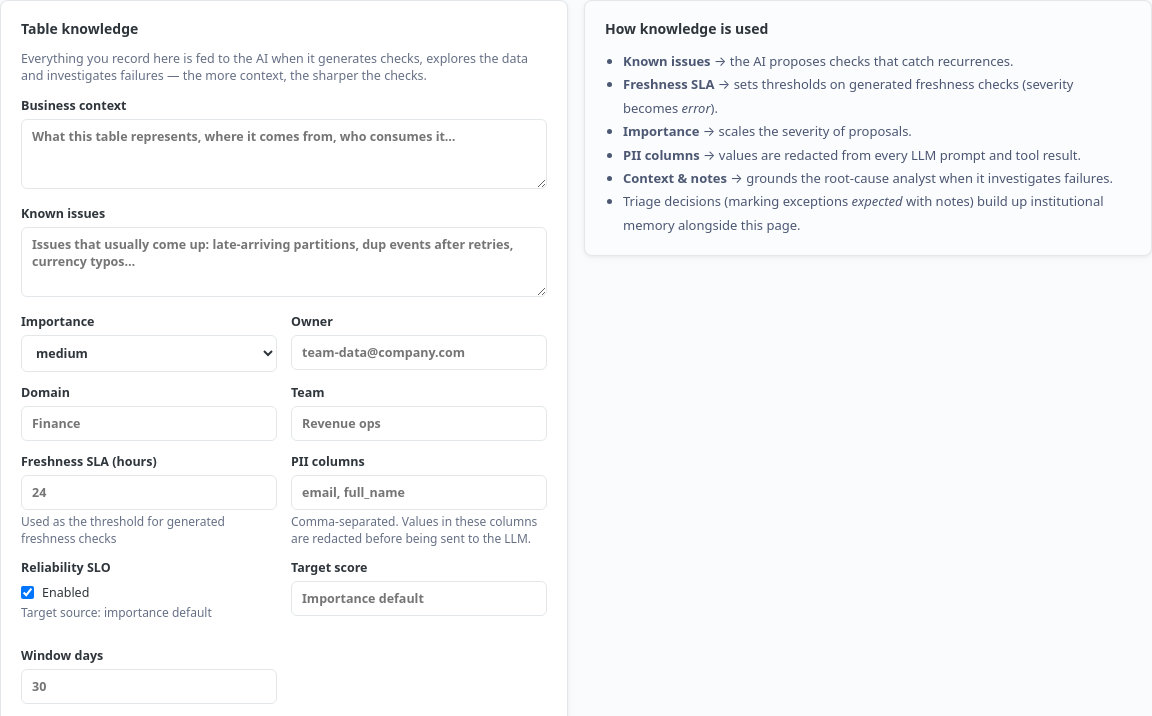
Test: Knowledge tab › announces an out-of-range SLO target and links it to the input
Expected: the dropdown labelled "Importance" shows "medium", [21, 334, 277, 372]
Type "150" into the number field labelled "Target score". click: (419, 598)
box: [291, 580, 547, 616]
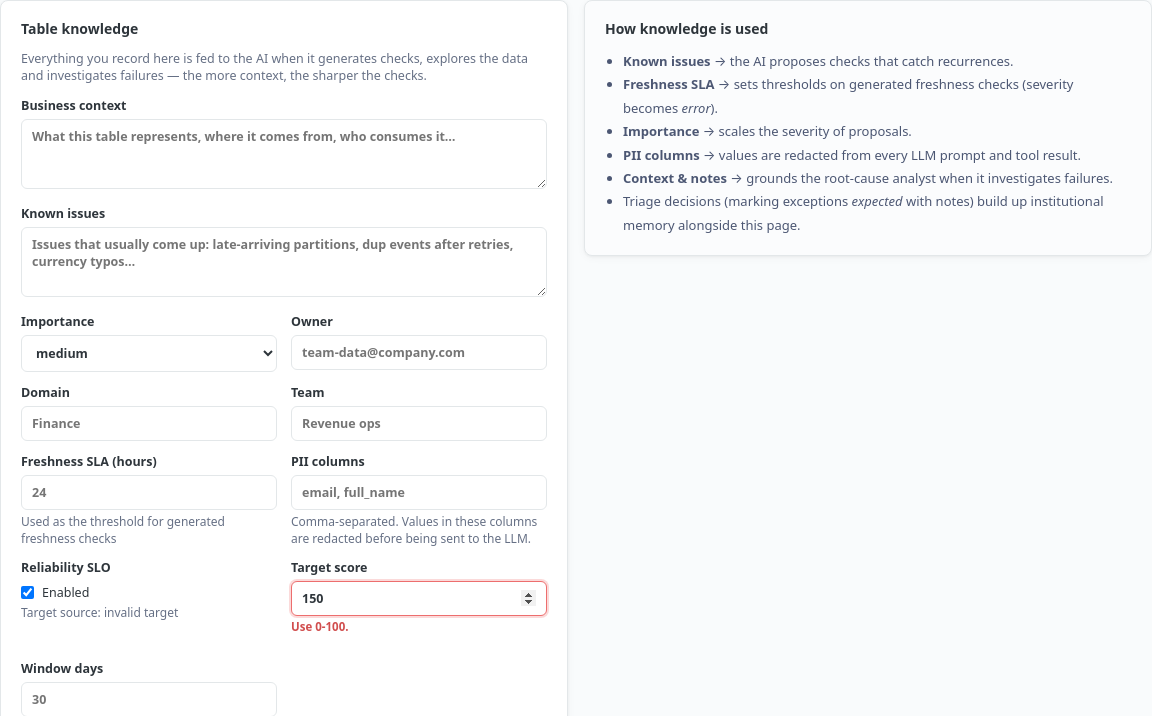
Now the message reads "Use 0-100.", box [291, 618, 348, 634]
